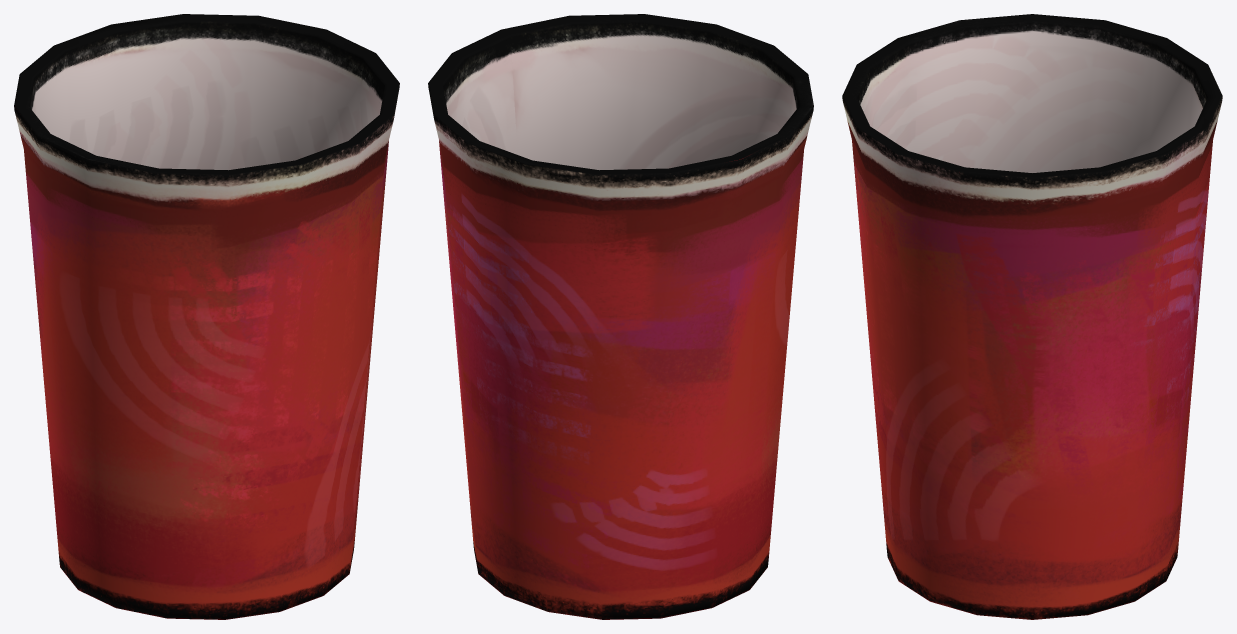
The model's file is red_cup.glb.
3 renders of one model, left to right at view 1: azimuth 30°, elevation 25°; view 2: azimuth 150°, elevation 25°; view 3: azimuth 270°, elevation 25°, orthographic.
Parts seen in each view (by area): view 1: Cup1; view 2: Cup1; view 3: Cup1.
Boxes of the visible parts, box(x1,y1,x2,y2) form: Cup1: box(14, 14, 399, 619); Cup1: box(428, 14, 813, 619); Cup1: box(842, 14, 1222, 619).
Size of the model in its own units: 0.5966 by 0.7818 by 0.5844.
Materials: 1 (1 with a texture image).
